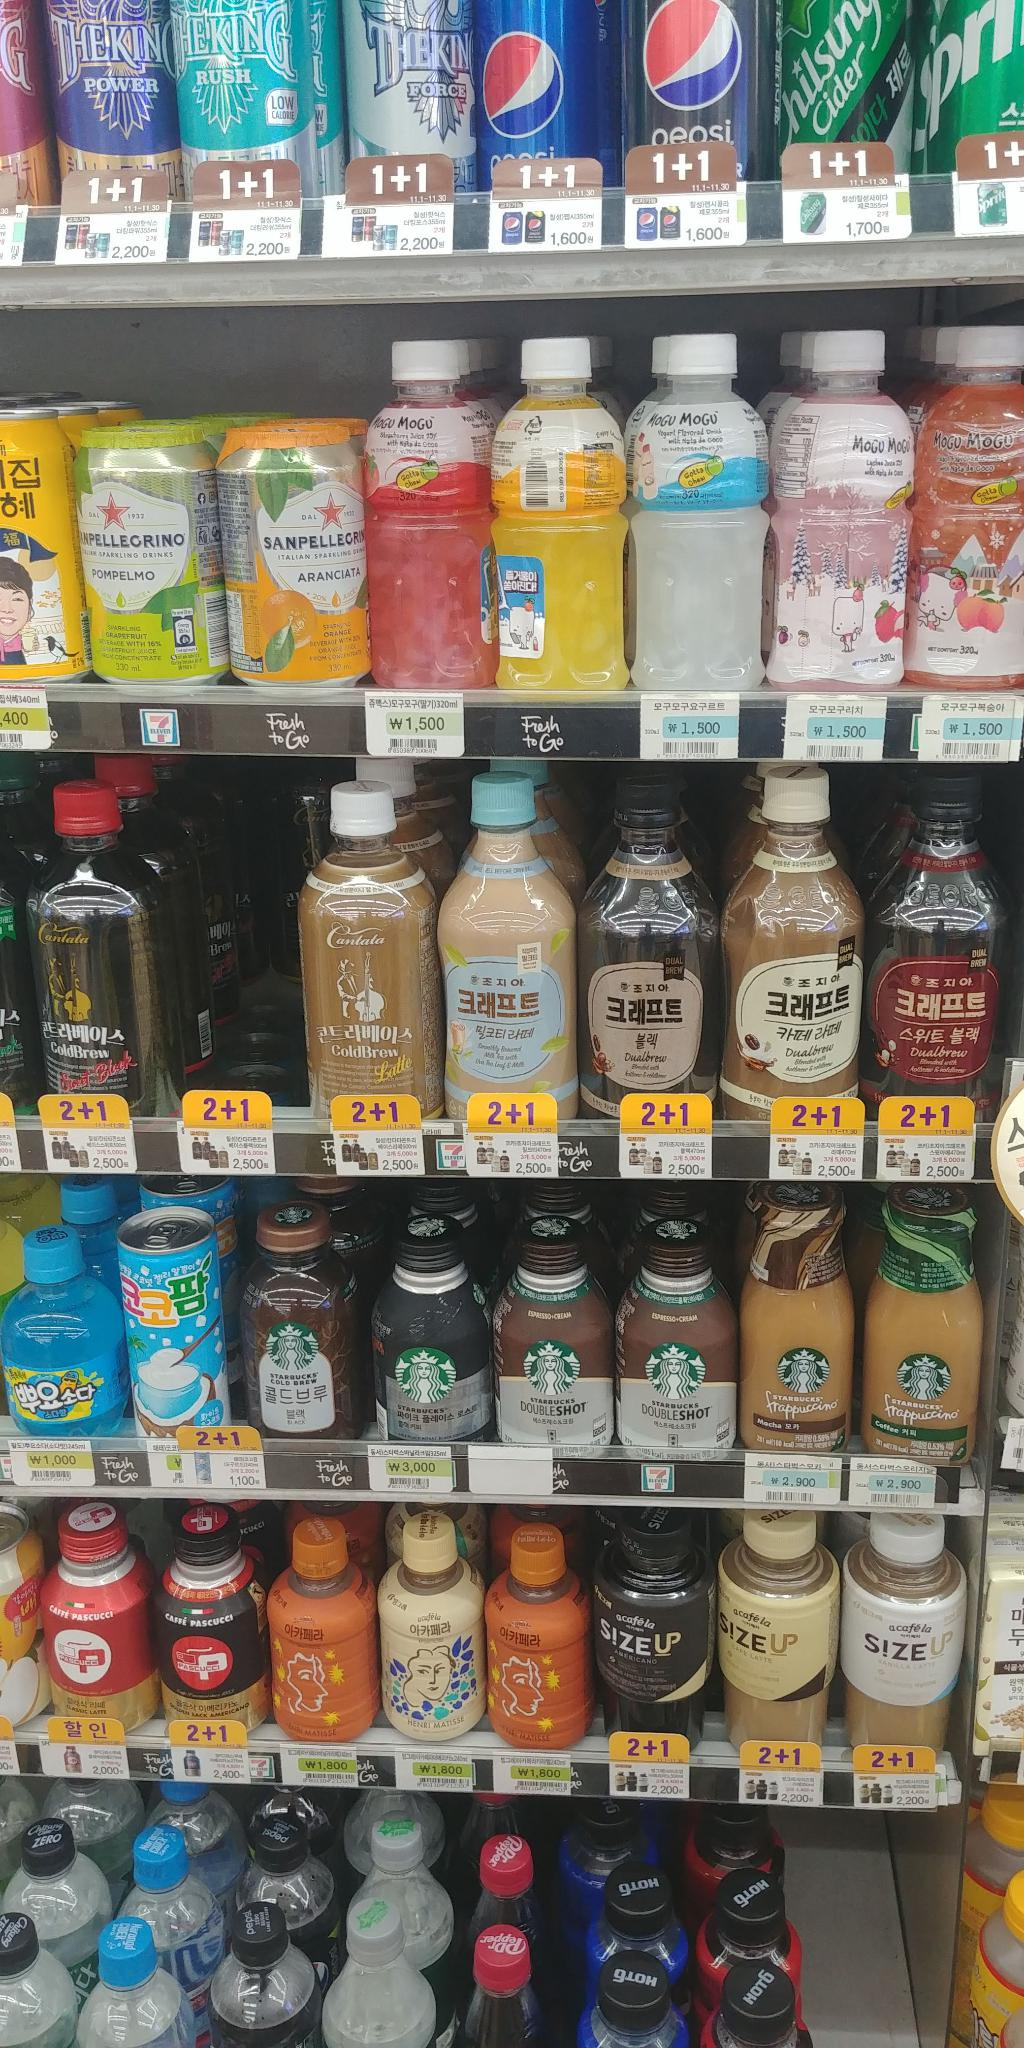contrabass_sweetblack: (26, 771, 172, 1122)
